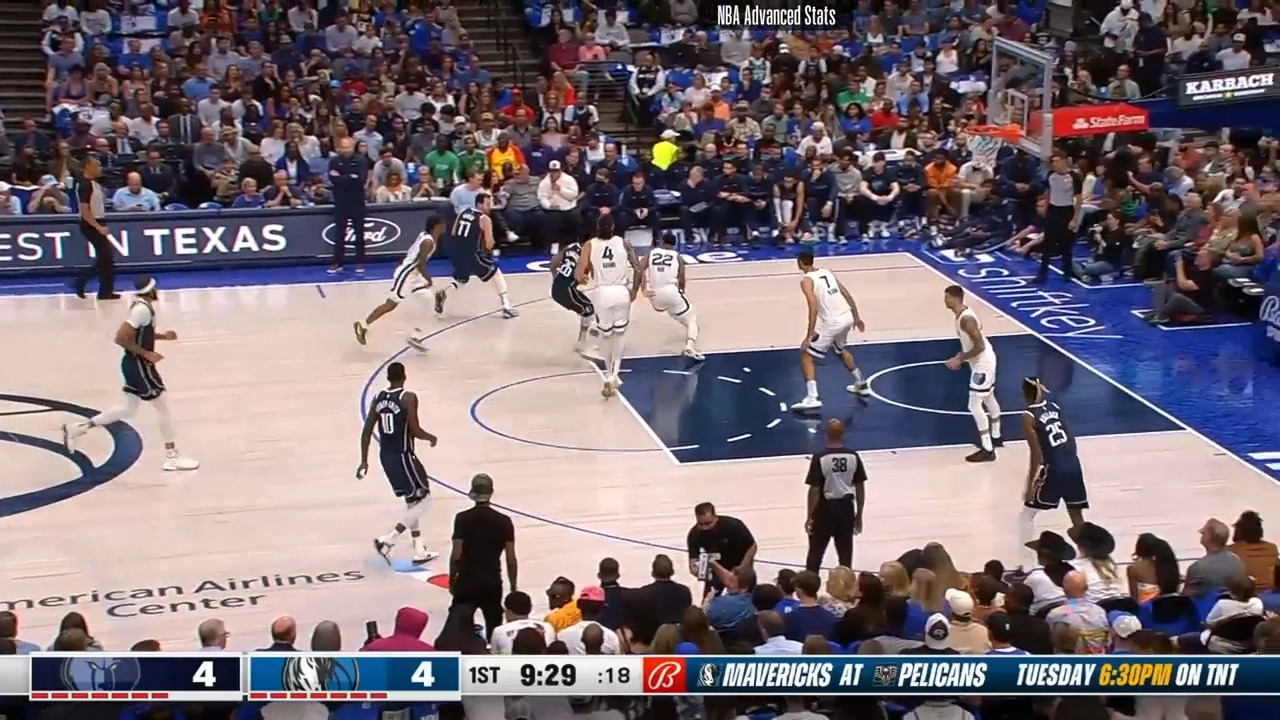net: (957, 118, 1027, 167)
player: (76, 275, 194, 480), (350, 358, 444, 574), (1007, 368, 1093, 560), (790, 246, 876, 413), (564, 217, 639, 407), (426, 187, 517, 335), (355, 213, 451, 353), (940, 283, 1008, 470), (630, 228, 717, 363), (546, 229, 600, 356)
referee: (804, 412, 875, 579), (1034, 149, 1092, 285), (75, 160, 128, 307)
